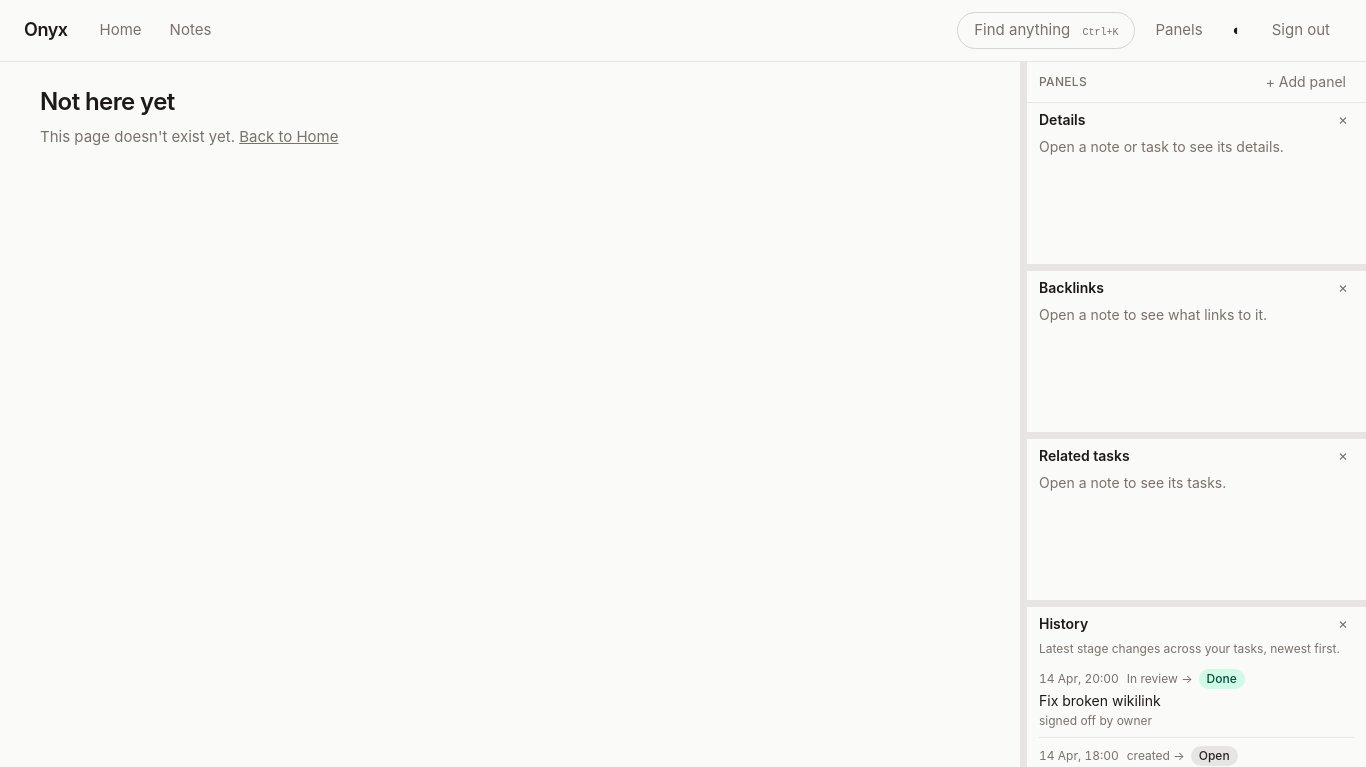
frame › shows a page for addresses that do not exist yet
Expected: the heading "Not here yet" is shown, [40,86,175,116]
Click the link "Back to Home": [289, 136] box [239,126,338,146]
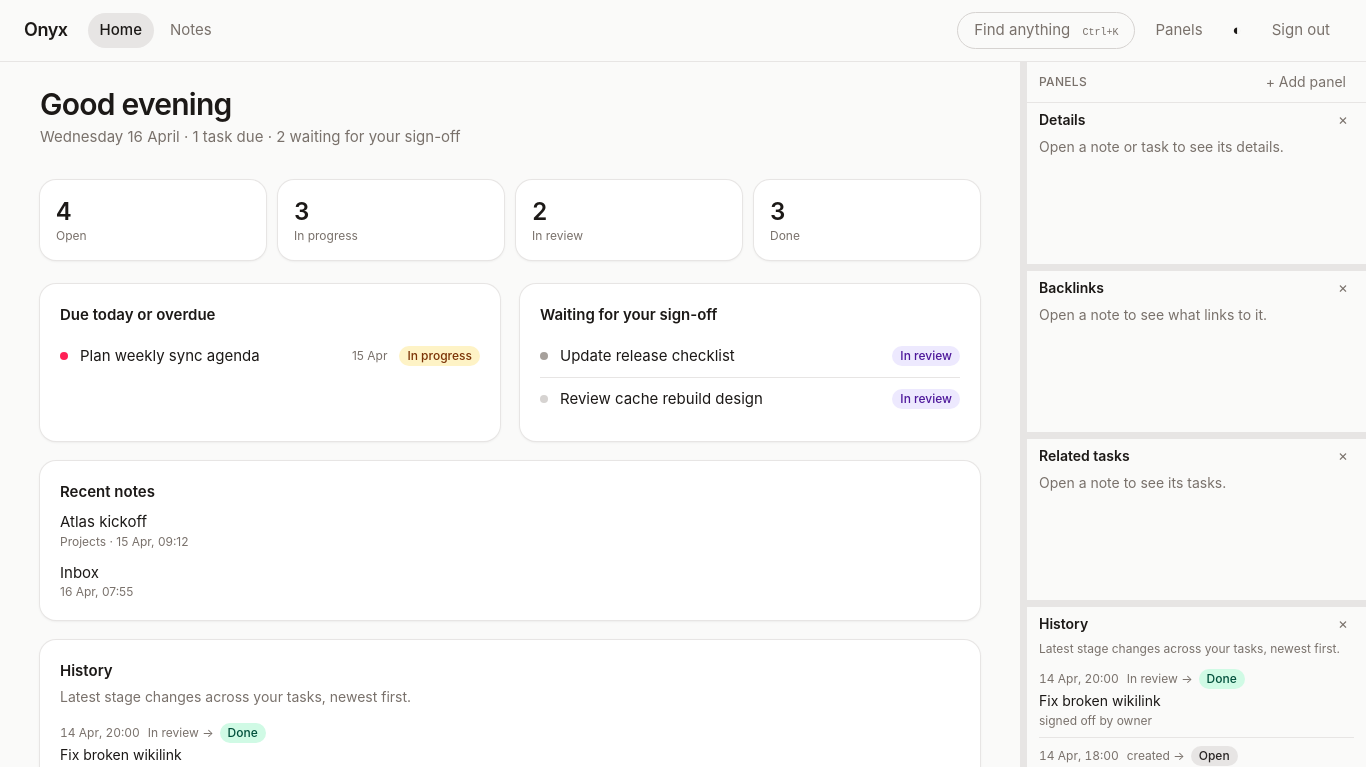
Expected: the heading "Due today or overdue" is shown, [60,305,215,324]
